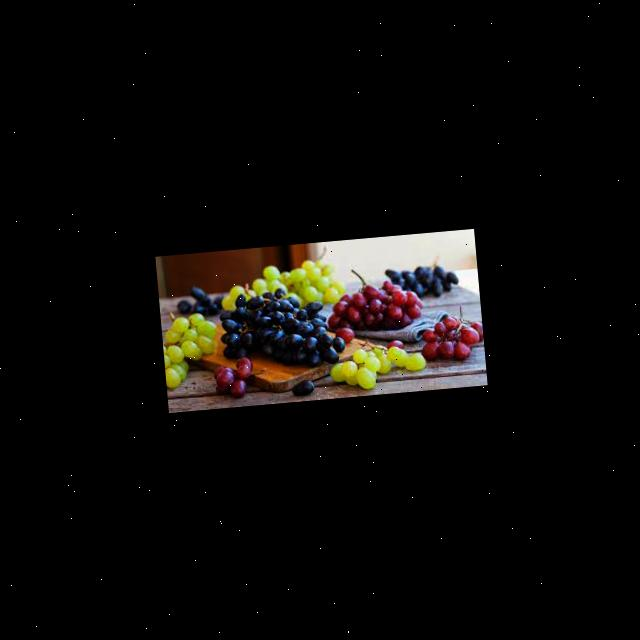grape: (418, 312, 484, 362), (384, 260, 459, 300)
